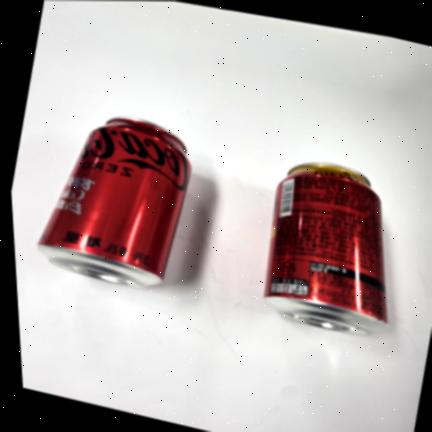can_coke_decaf: (264, 163, 387, 334)
can_coke_zero: (38, 118, 191, 286)
